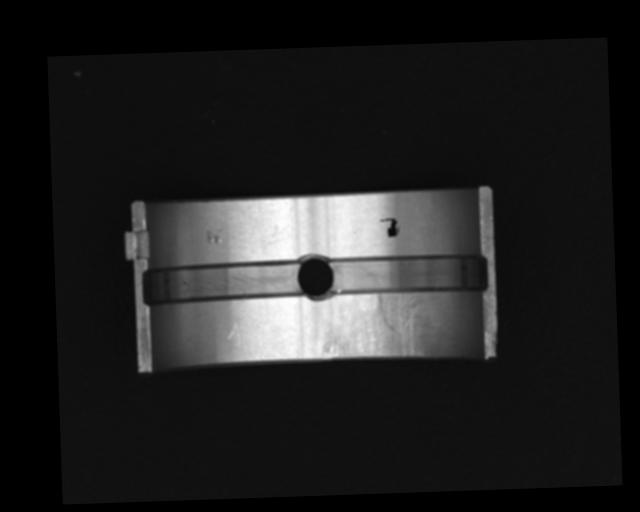blot: (380, 217, 400, 237)
bruise: (204, 229, 221, 243)
gap: (324, 253, 486, 296), (141, 261, 303, 303)
hole: (298, 253, 336, 302)
nick: (227, 300, 247, 340)
scratch: (322, 293, 429, 358)
